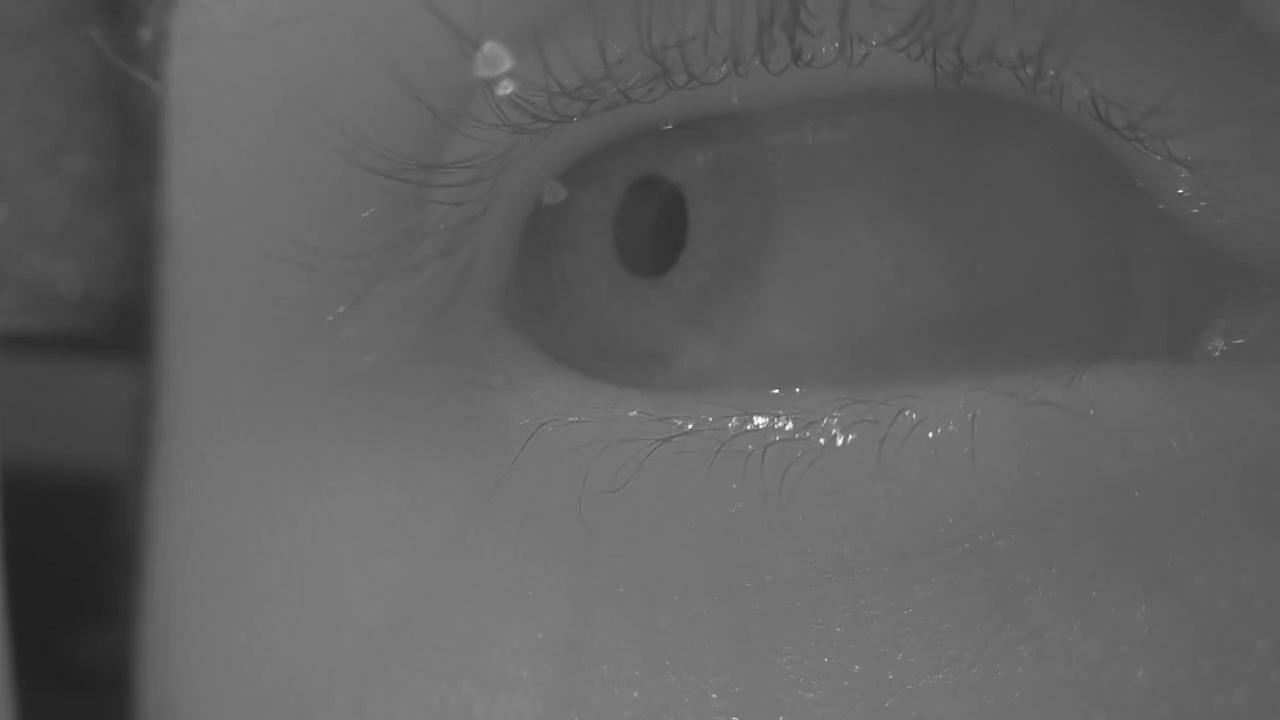pupil: (615, 174, 686, 280)
